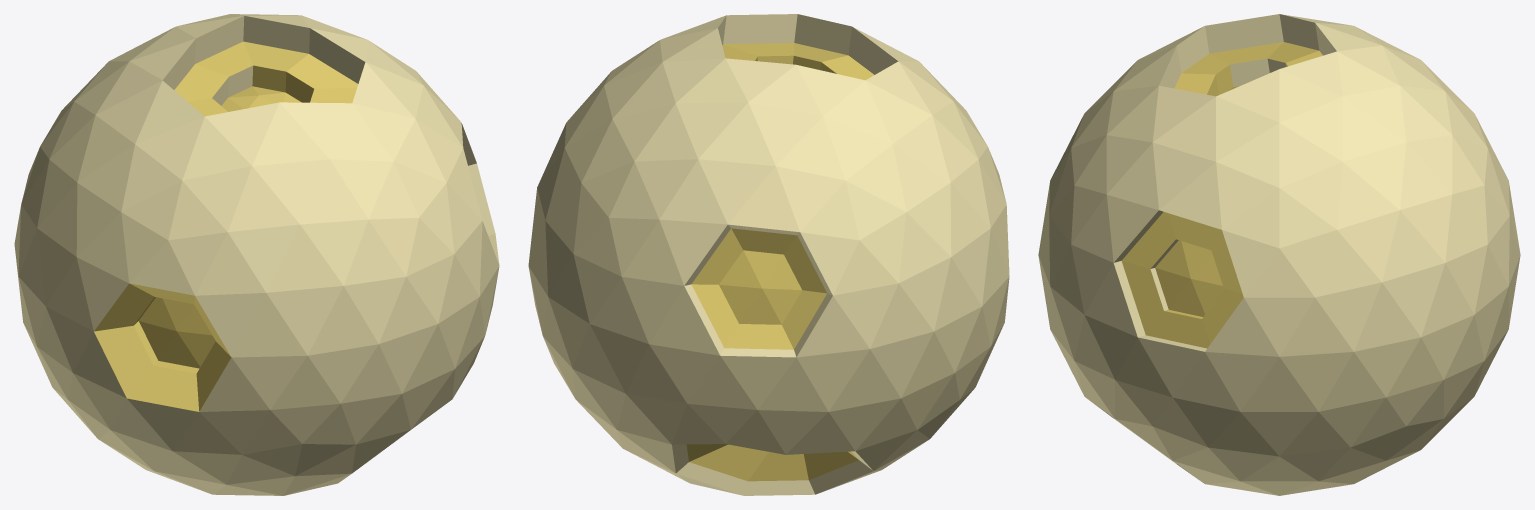
The model's file is Moon.fbx.
3 renders of one model, left to right at view 1: azimuth 30°, elevation 25°; view 2: azimuth 150°, elevation 25°; view 3: azimuth 270°, elevation 25°, orthographic.
Visible parts, largest first — view 1: Icosphere.004; view 2: Icosphere.004; view 3: Icosphere.004.
Boxes of the visible parts, x1,y1,x2,y2 form: Icosphere.004: (14, 14, 499, 495); Icosphere.004: (528, 14, 1009, 495); Icosphere.004: (1038, 14, 1520, 495).
Size of the model in its own units: 288 by 283 by 288.
1 material, 1 textured.
